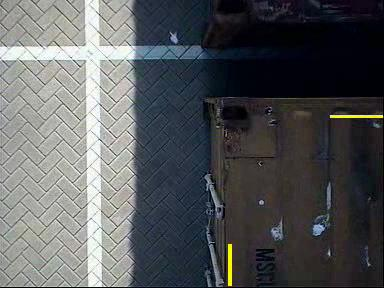groundmarker_2: (133, 66, 201, 107)
